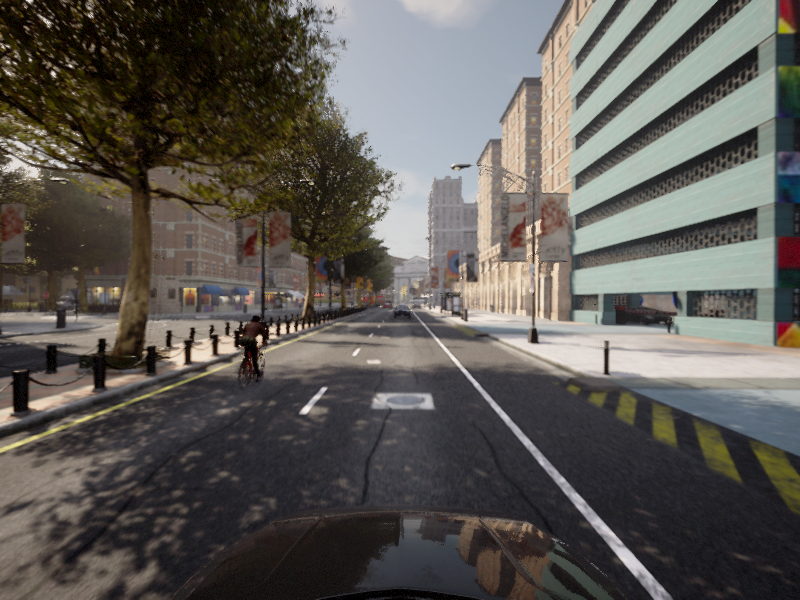vehicle: (225, 314, 277, 392), (393, 305, 411, 318)
